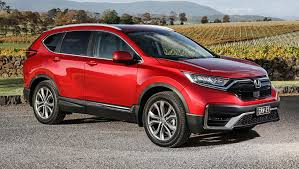Honda: (22, 21, 281, 149)
